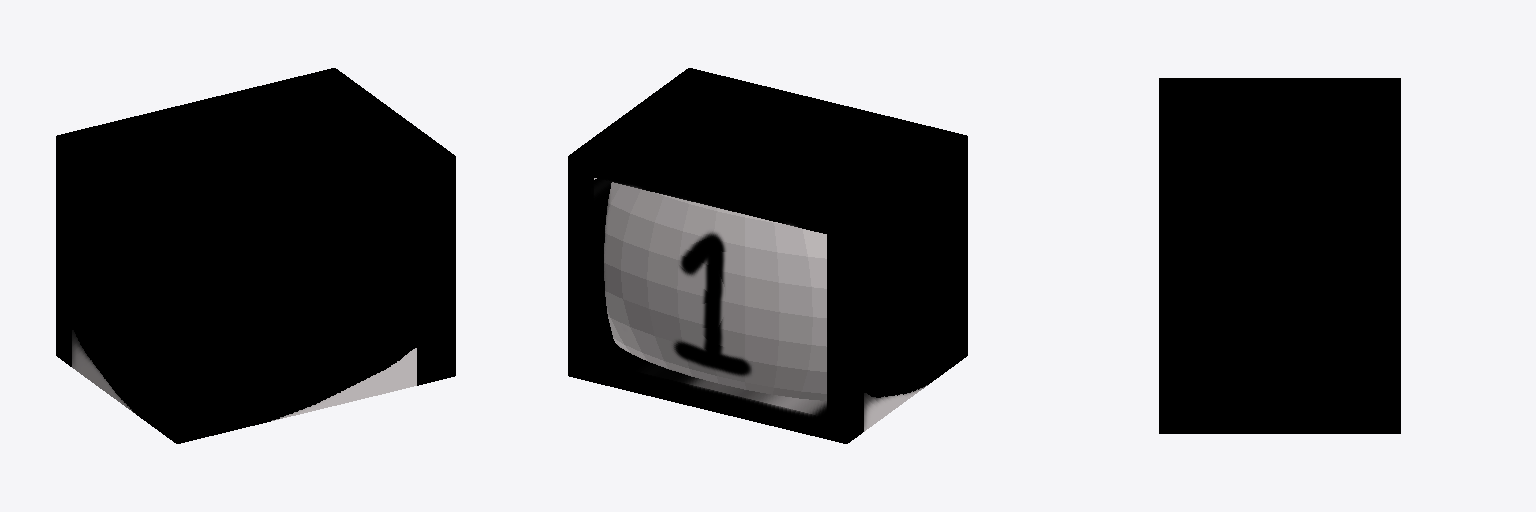
3 views of the same model, side by side, from view 1: azimuth 30°, elevation 25°; view 2: azimuth 150°, elevation 25°; view 3: azimuth 270°, elevation 25° (orthographic).
Parts seen in each view (by area): view 1: 球.002; view 2: 球.002; view 3: 球.002.
Boxes of the visible parts, <box> form: 球.002: <box>56,68,455,443</box>; 球.002: <box>568,68,967,443</box>; 球.002: <box>1159,78,1400,433</box>.
Size of the model in its own units: 18.62 by 14 by 14.
Materials: 1 (1 with a texture image).